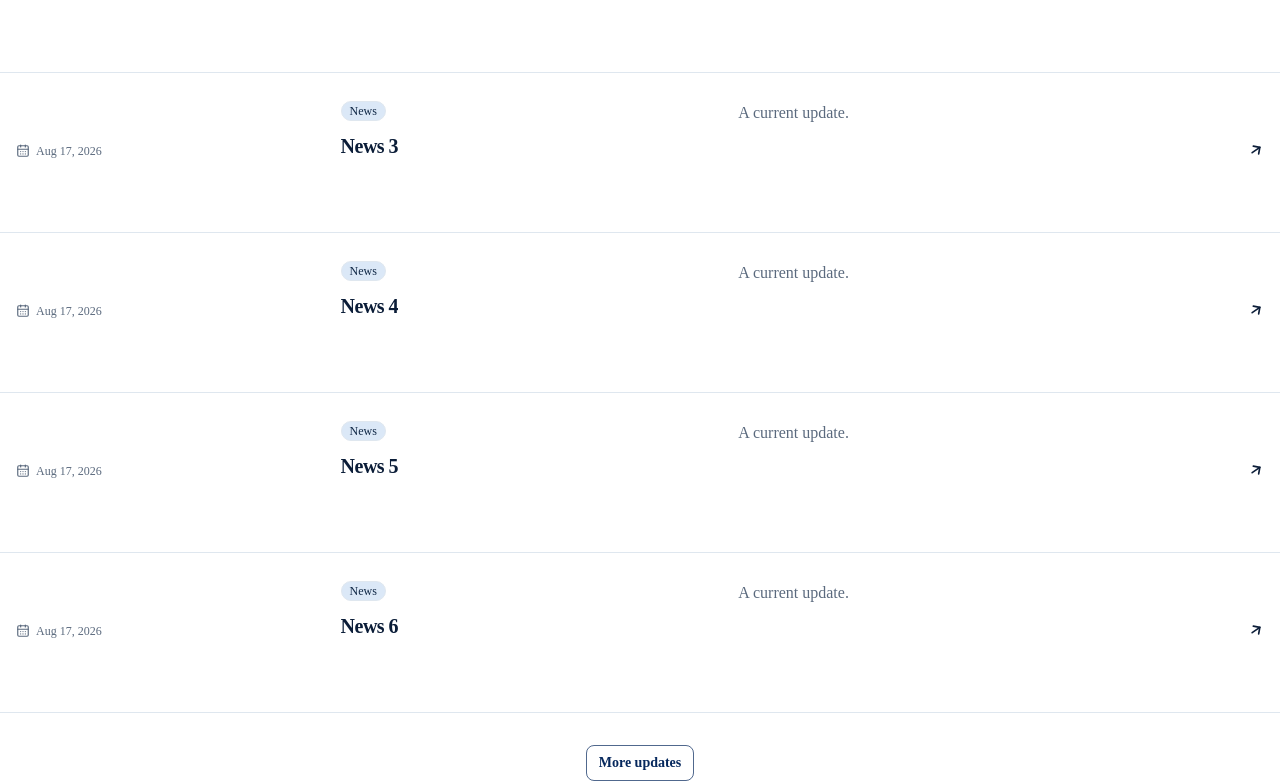
Scenario: News & Events Tabs › loads, appends, and completes pagination for the active tab
(page scrolled)
Click the button "More updates": (640, 763) [586,745,694,780]
(page scrolled)
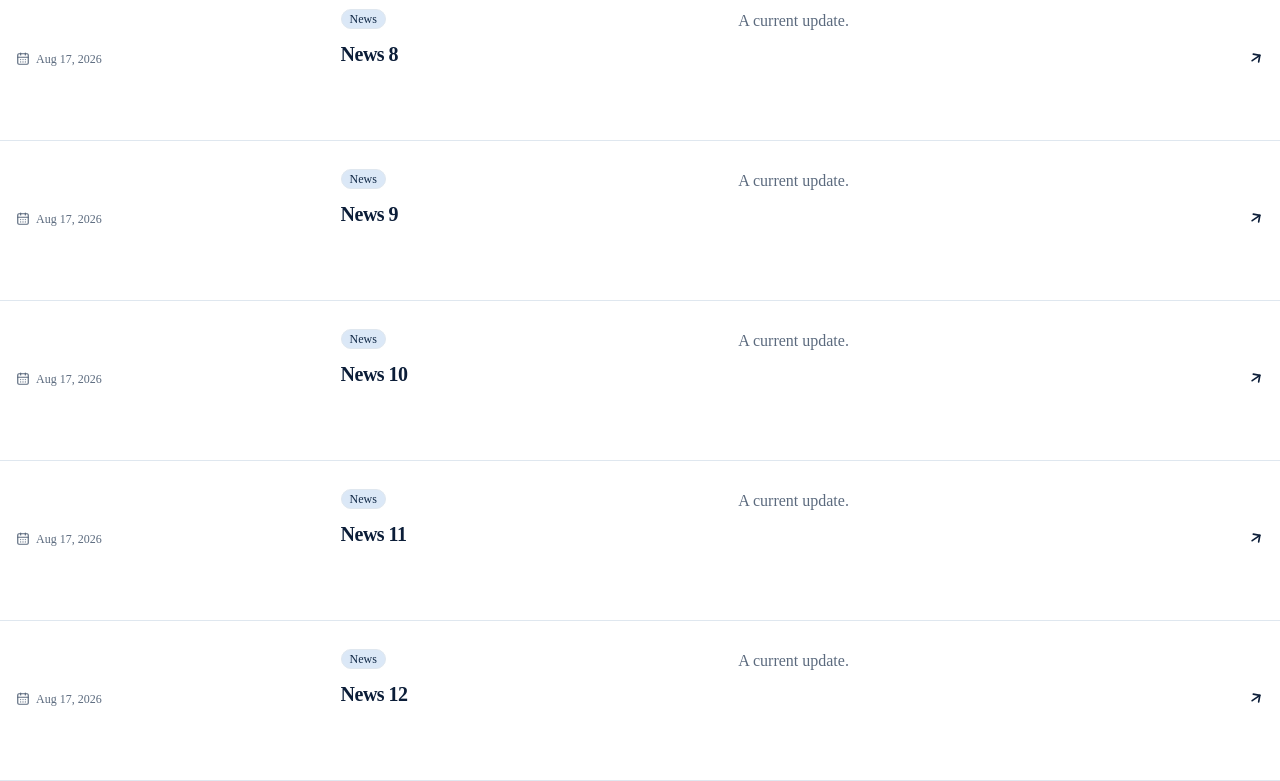
Result: the heading "News 12" is shown at [341,681,408,708]
Result: the button "More updates" is gone
